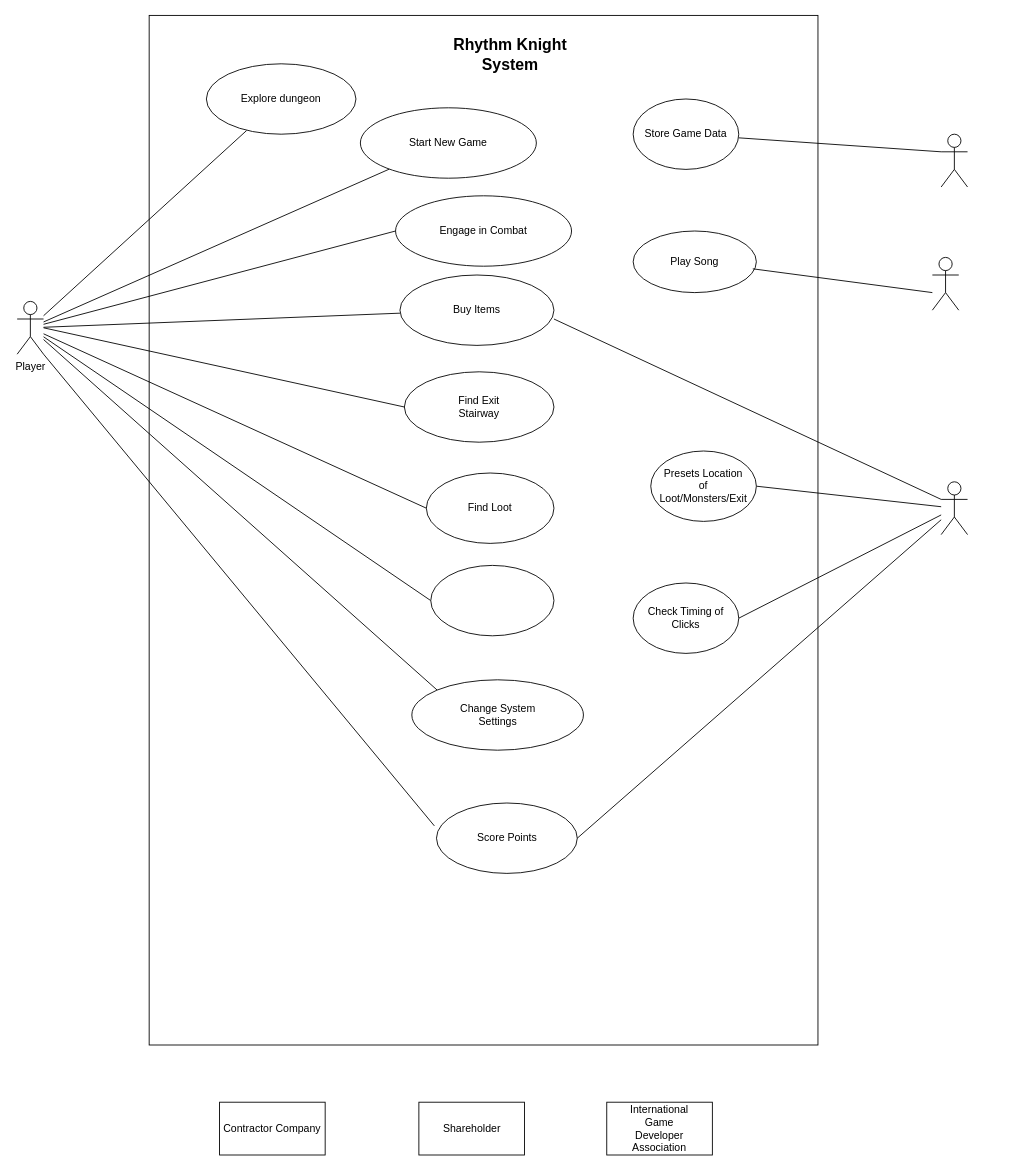
Image size: 1011x1170. Some labels were removed from this diagram. Here are the shapes that lost their labels. From the top down, the centre of each, then its label:
the point at 954,160: Database Service
the point at 945,283: Music Service
the point at 954,508: Game Admin
the point at 492,600: Click on Adjacent Tiles
